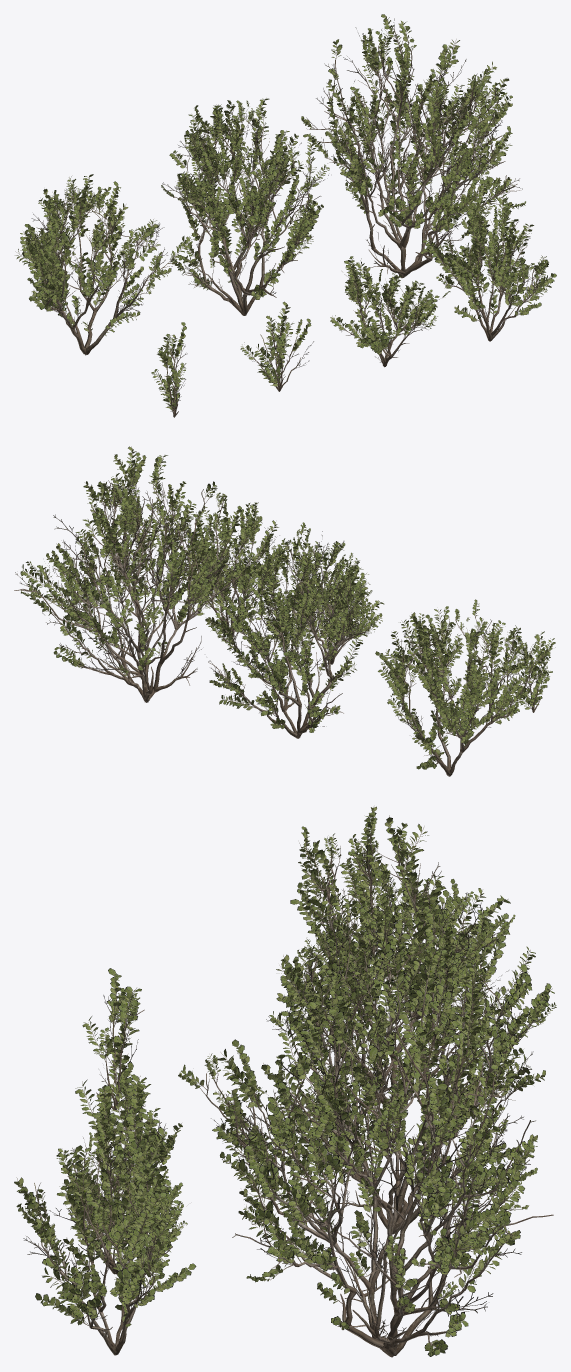
The model's file is searsia_lucida_2k.glb.
3 renders of one model, top to bottom at view 1: azimuth 30°, elevation 25°; view 2: azimuth 150°, elevation 25°; view 3: azimuth 270°, elevation 25°, orthographic. The views are drawn at different scales.
Parts seen in each view (by area): view 1: searsia_lucida_a_LOD0; view 2: searsia_lucida_a_LOD0; view 3: searsia_lucida_a_LOD0.
Part boxes in pixels (<box>): searsia_lucida_a_LOD0: <box>15,14,556,417</box>; searsia_lucida_a_LOD0: <box>14,446,555,776</box>; searsia_lucida_a_LOD0: <box>14,806,556,1357</box>.
Bounding box in the file's own units: 4.78 × 2.34 × 2.84.
Materials: 2 (2 with a texture image).
